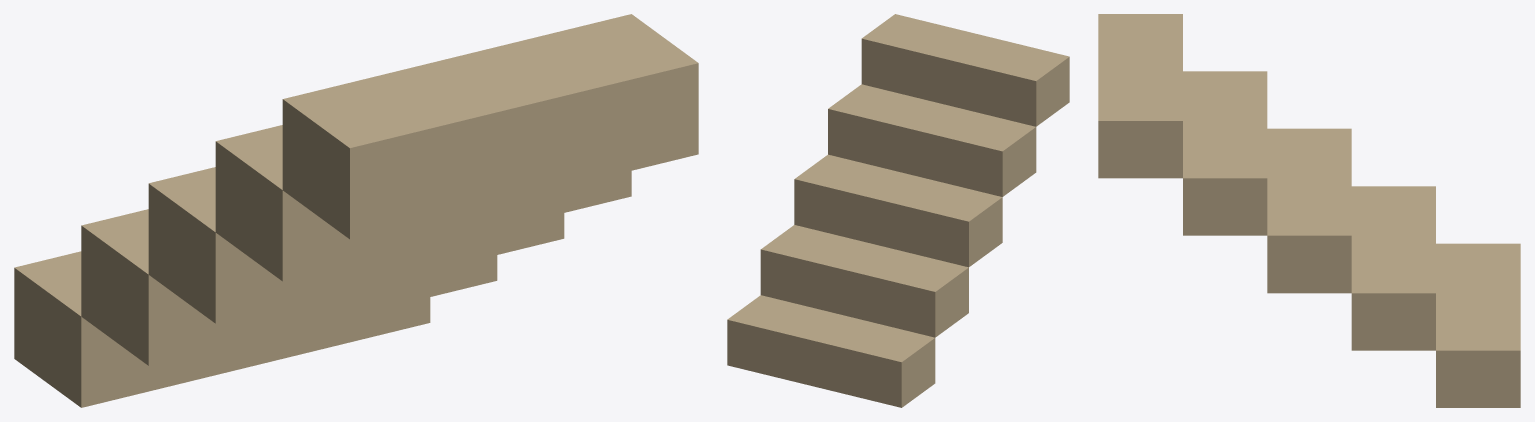
File: STAIR_001.glb
The picture shows the model from 3 angles, left to right: view 1: azimuth 30°, elevation 25°; view 2: azimuth 150°, elevation 25°; view 3: azimuth 270°, elevation 25°; orthographic projection. The views are drawn at different scales.
Parts seen in each view (by area): view 1: Limestone stair section step 5, Limestone stair section step 2, Limestone stair section step 1, Limestone stair section step 4, Limestone stair section step 3; view 2: Limestone stair section step 2, Limestone stair section step 4, Limestone stair section step 1, Limestone stair section step 5, Limestone stair section step 3; view 3: Limestone stair section step 3, Limestone stair section step 1, Limestone stair section step 2, Limestone stair section step 4, Limestone stair section step 5.
Boxes of the visible parts, x1,y1,x2,y2 form: Limestone stair section step 5: [282, 14, 698, 239]; Limestone stair section step 2: [81, 209, 497, 365]; Limestone stair section step 1: [14, 251, 430, 407]; Limestone stair section step 4: [215, 125, 631, 281]; Limestone stair section step 3: [148, 167, 564, 323]; Limestone stair section step 2: [760, 225, 968, 337]; Limestone stair section step 4: [828, 84, 1036, 196]; Limestone stair section step 1: [727, 295, 935, 407]; Limestone stair section step 5: [861, 14, 1069, 126]; Limestone stair section step 3: [794, 154, 1002, 267]; Limestone stair section step 3: [1267, 128, 1351, 293]; Limestone stair section step 1: [1436, 243, 1520, 407]; Limestone stair section step 2: [1351, 186, 1435, 350]; Limestone stair section step 4: [1183, 71, 1267, 235]; Limestone stair section step 5: [1098, 14, 1182, 178].
Size of the model in its own units: 1.2 by 1.5 by 2.
